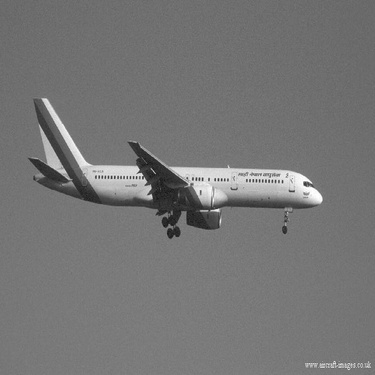airplane: (27, 84, 330, 244)
